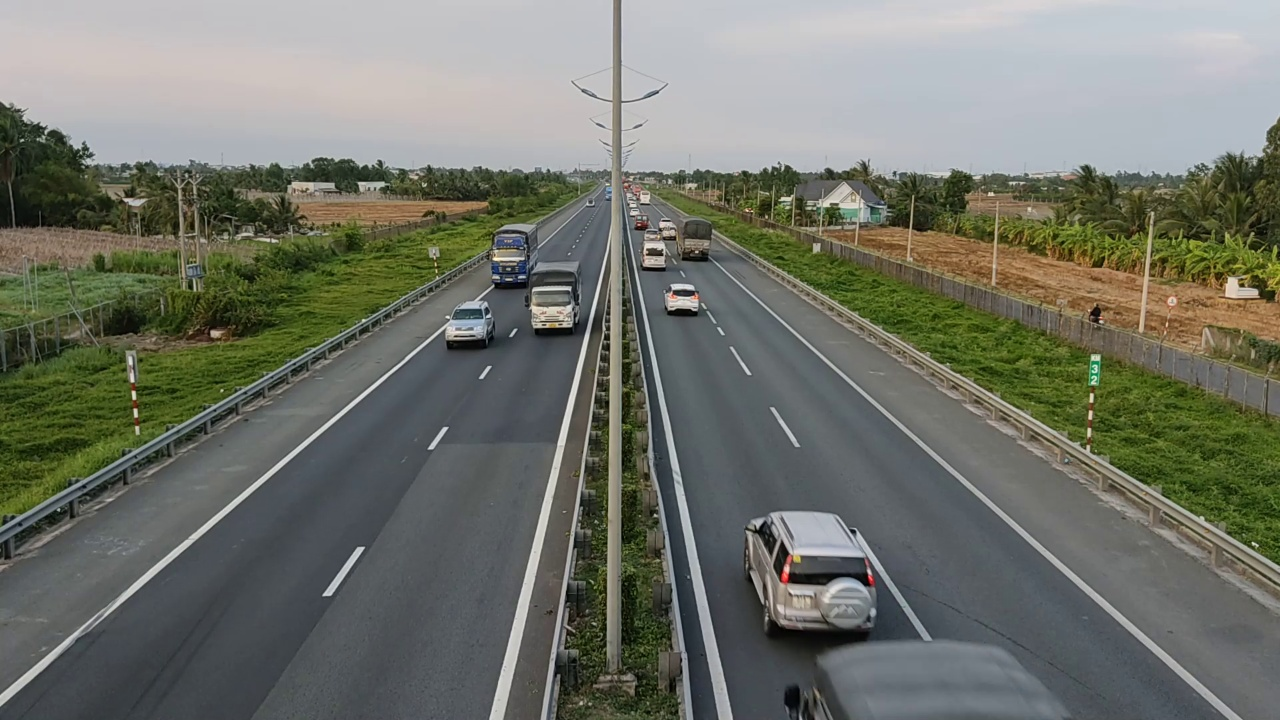car: (783, 637, 1069, 719), (743, 509, 879, 635), (445, 300, 497, 349), (663, 282, 701, 315), (641, 238, 667, 270)
truck: (526, 257, 584, 335), (490, 221, 539, 287), (678, 216, 713, 261)
